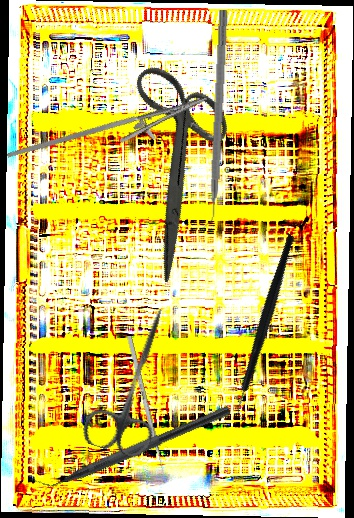Chopper: (181, 233, 353, 424), (28, 391, 232, 501), (195, 9, 229, 234)
Iris Scissors: (70, 47, 282, 283), (79, 298, 191, 462)
Needle Holder: (6, 72, 214, 196)
Pusher: (126, 335, 169, 484)
